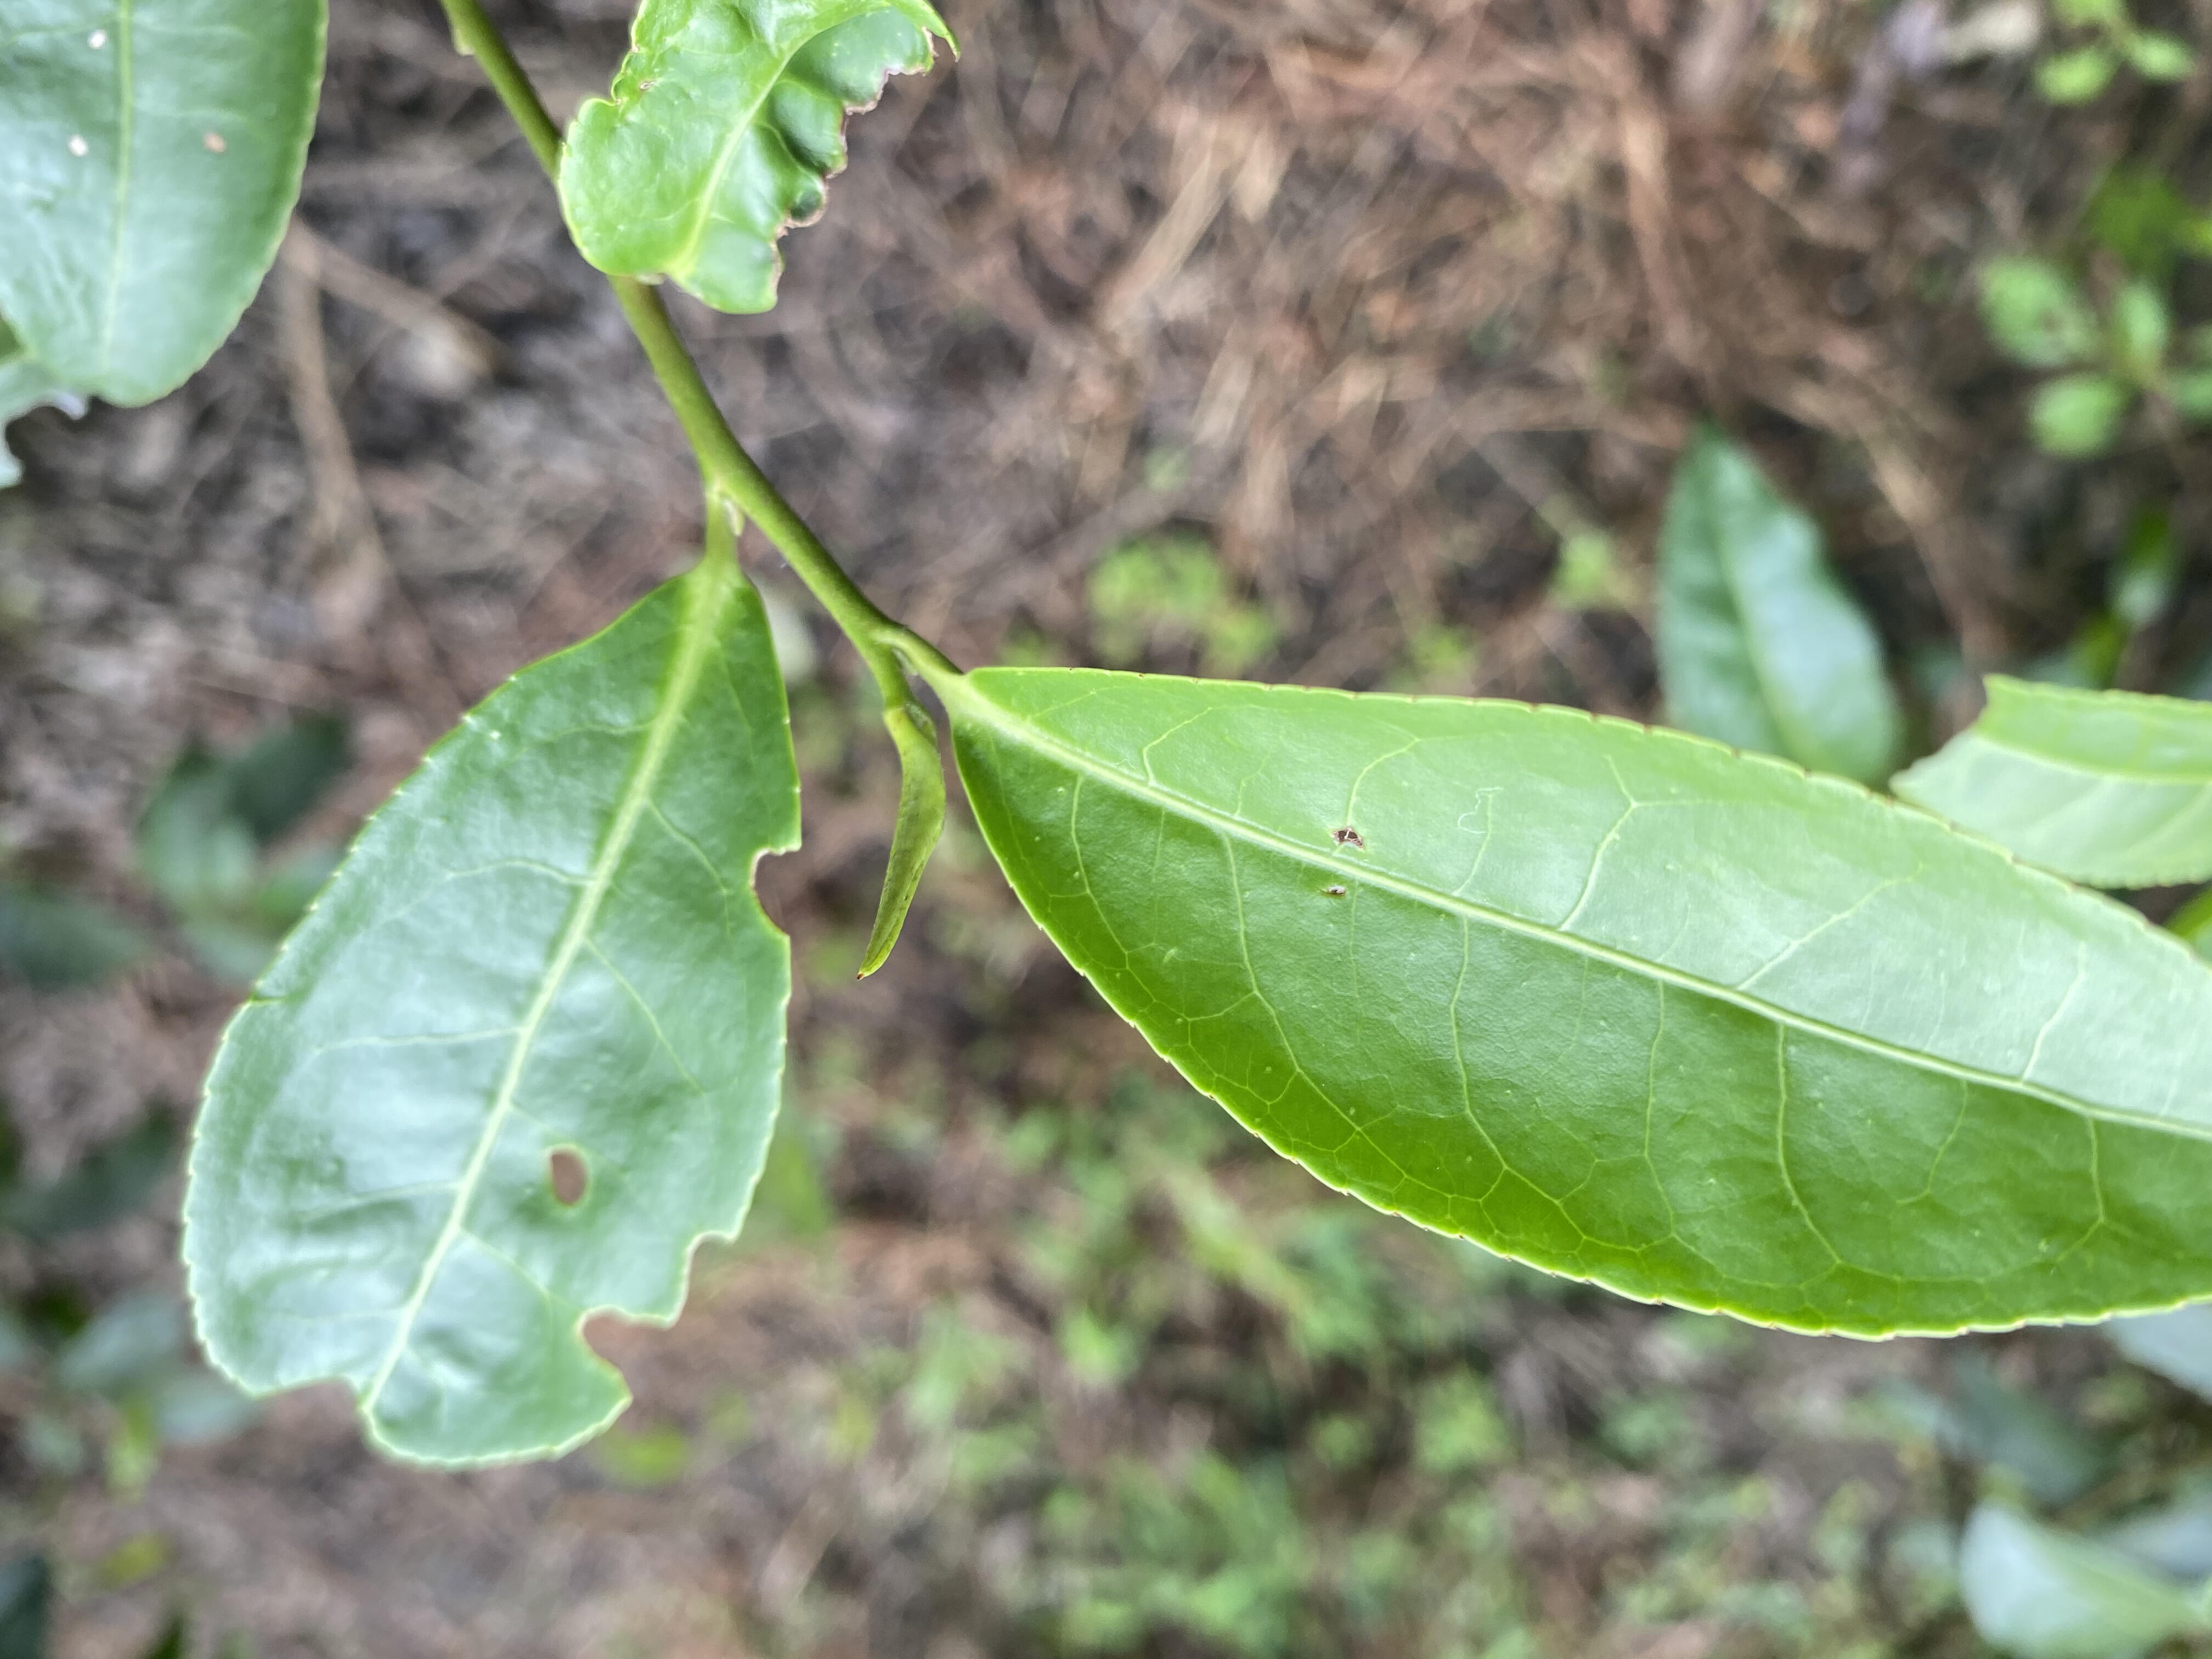chihuo_high: (176, 565, 806, 1469), (554, 3, 960, 319)
chihuo_low: (1893, 669, 2212, 892)
tanju_low: (951, 660, 2209, 1345)
